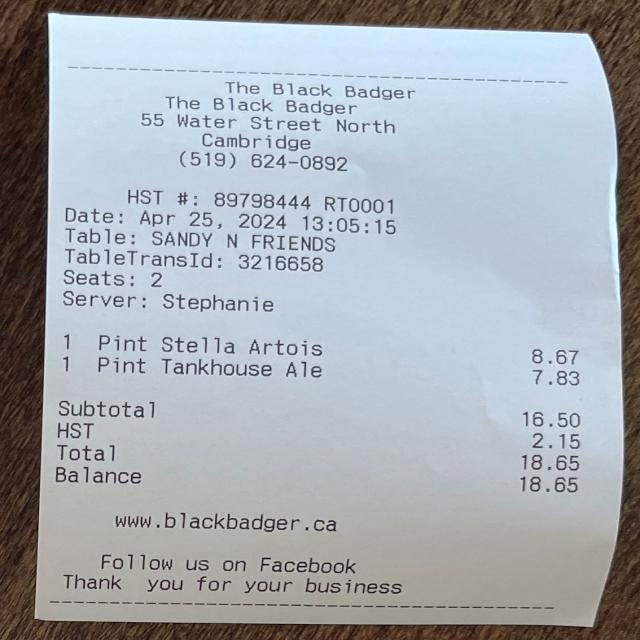item: (92, 331, 588, 367), (92, 355, 587, 390)
store_name: (216, 75, 426, 105)
total_amount: (49, 439, 586, 473)
transaction_date: (135, 205, 295, 232)
